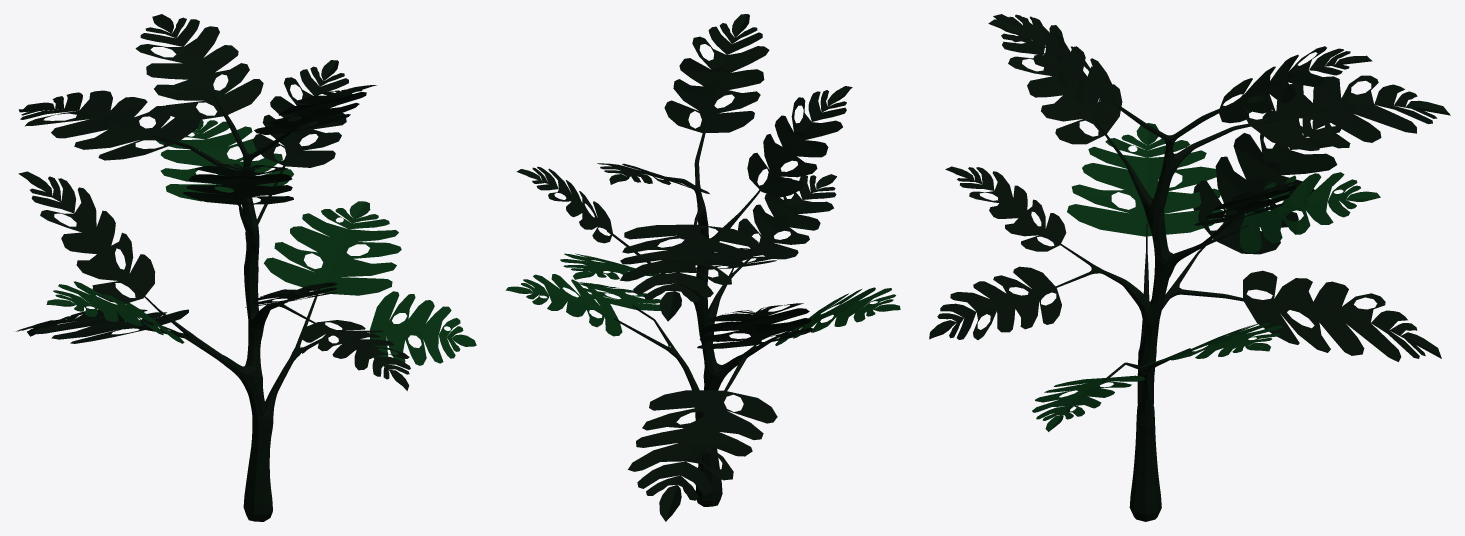
3 renders of one model, left to right at view 1: azimuth 30°, elevation 25°; view 2: azimuth 150°, elevation 25°; view 3: azimuth 270°, elevation 25°, orthographic. The views are drawn at different scales.
Parts seen in each view (by area): view 1: lp_Plane_103_Plane_006; view 2: lp_Plane_103_Plane_006; view 3: lp_Plane_103_Plane_006.
Part boxes in pixels (box(x1,y1,x2,y2)): lp_Plane_103_Plane_006: box(16, 14, 476, 521); lp_Plane_103_Plane_006: box(505, 14, 900, 521); lp_Plane_103_Plane_006: box(929, 14, 1450, 521).
Bounding box in the file's own units: 11.22 × 13.35 × 12.27.
